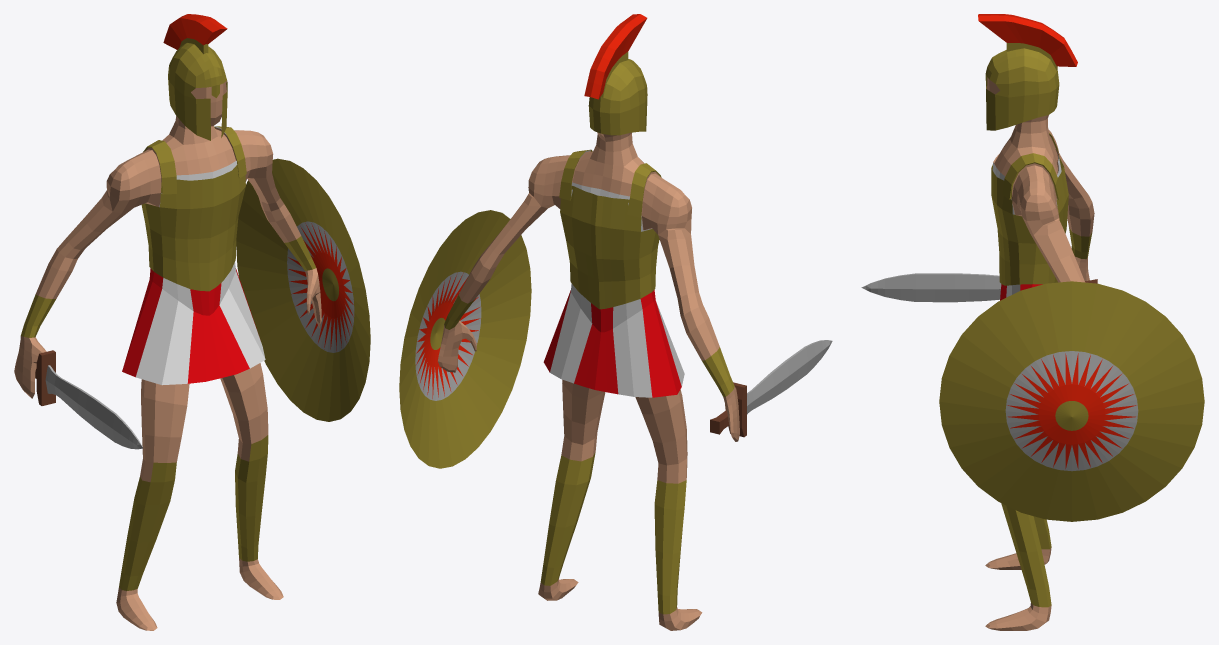
The model's file is SoldierEra1.fbx.
The picture shows the model from 3 angles, left to right: view 1: azimuth 30°, elevation 25°; view 2: azimuth 150°, elevation 25°; view 3: azimuth 270°, elevation 25°; orthographic projection.
Parts seen in each view (by area): view 1: Bouclier, Corps, Armure, Tunique, Jambes_armure, Tunique.001, Casque, Xiphos_manche, Pieds, Mains, Crête, Bretelle_Armure (+1 smaller); view 2: Bouclier, Corps, Armure, Jambes_armure, Tunique, Tunique.001, Casque, Xiphos_manche, Crête, Mains, Bretelle_Armure, Pieds (+1 smaller); view 3: Bouclier, Corps, Casque, Armure, Xiphos_manche, Jambes_armure, Crête, Pieds, Bretelle_Armure.
Part boxes in pixels (x1,y1,x2,y2): Bouclier: [236, 158, 370, 421]; Corps: [36, 81, 301, 482]; Armure: [141, 165, 245, 291]; Tunique: [136, 126, 265, 385]; Jambes_armure: [119, 435, 268, 590]; Tunique.001: [122, 268, 256, 383]; Casque: [168, 38, 227, 140]; Xiphos_manche: [35, 350, 142, 449]; Pieds: [116, 558, 283, 630]; Mains: [14, 268, 321, 398]; Crête: [163, 14, 227, 49]; Bretelle_Armure: [143, 126, 246, 194]; Bouclier: [399, 210, 531, 468]; Corps: [459, 132, 719, 483]; Armure: [560, 186, 659, 309]; Jambes_armure: [540, 452, 686, 614]; Tunique: [550, 150, 684, 397]; Tunique.001: [543, 290, 681, 397]; Casque: [588, 51, 647, 135]; Xiphos_manche: [710, 340, 832, 437]; Crête: [584, 14, 647, 99]; Mains: [438, 320, 739, 441]; Bretelle_Armure: [559, 149, 661, 217]; Pieds: [538, 578, 702, 630]; Bouclier: [939, 281, 1204, 521]; Corps: [986, 77, 1094, 282]; Casque: [985, 43, 1059, 130]; Armure: [991, 156, 1068, 285]; Xiphos_manche: [861, 273, 1097, 302]; Jambes_armure: [1001, 503, 1051, 607]; Crête: [978, 14, 1077, 66]; Pieds: [985, 547, 1051, 630]; Bretelle_Armure: [1002, 133, 1060, 199].
Bounding box in the file's own units: 228 × 414 × 221.
